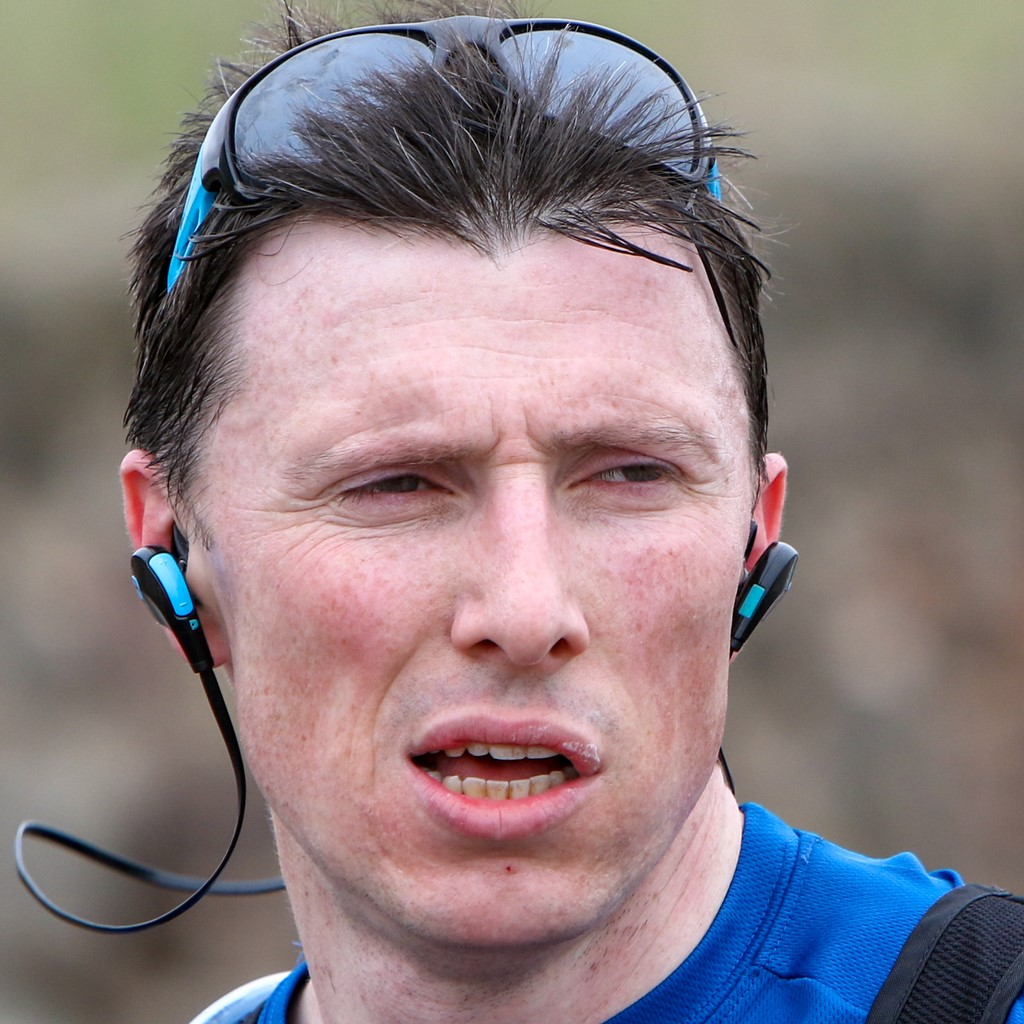sin_mascara: (161, 150, 758, 937)
